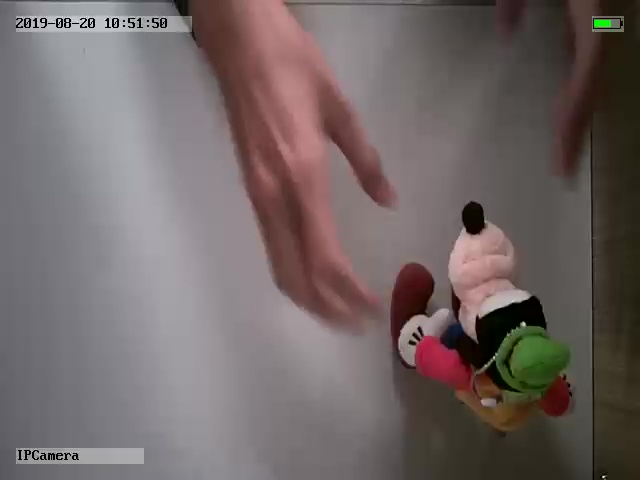goofy: (391, 202, 579, 432)
